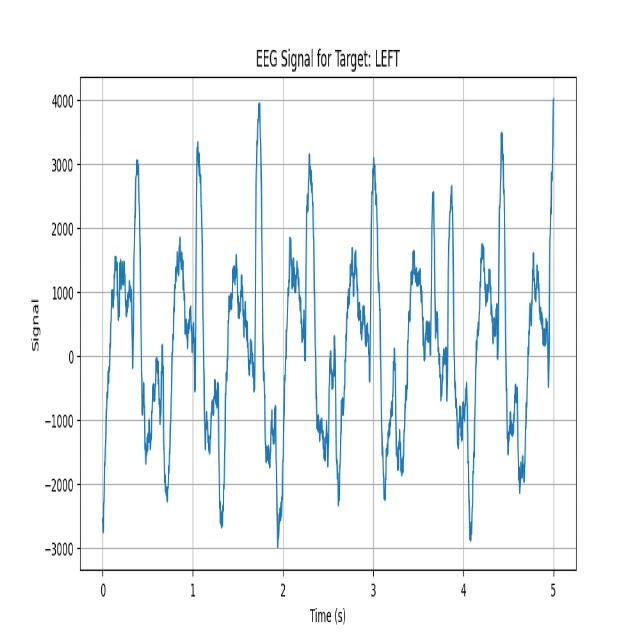LEFT: (462, 122, 527, 554), (225, 103, 282, 544), (334, 146, 396, 537), (101, 155, 167, 512), (167, 125, 223, 538), (282, 144, 334, 541)
